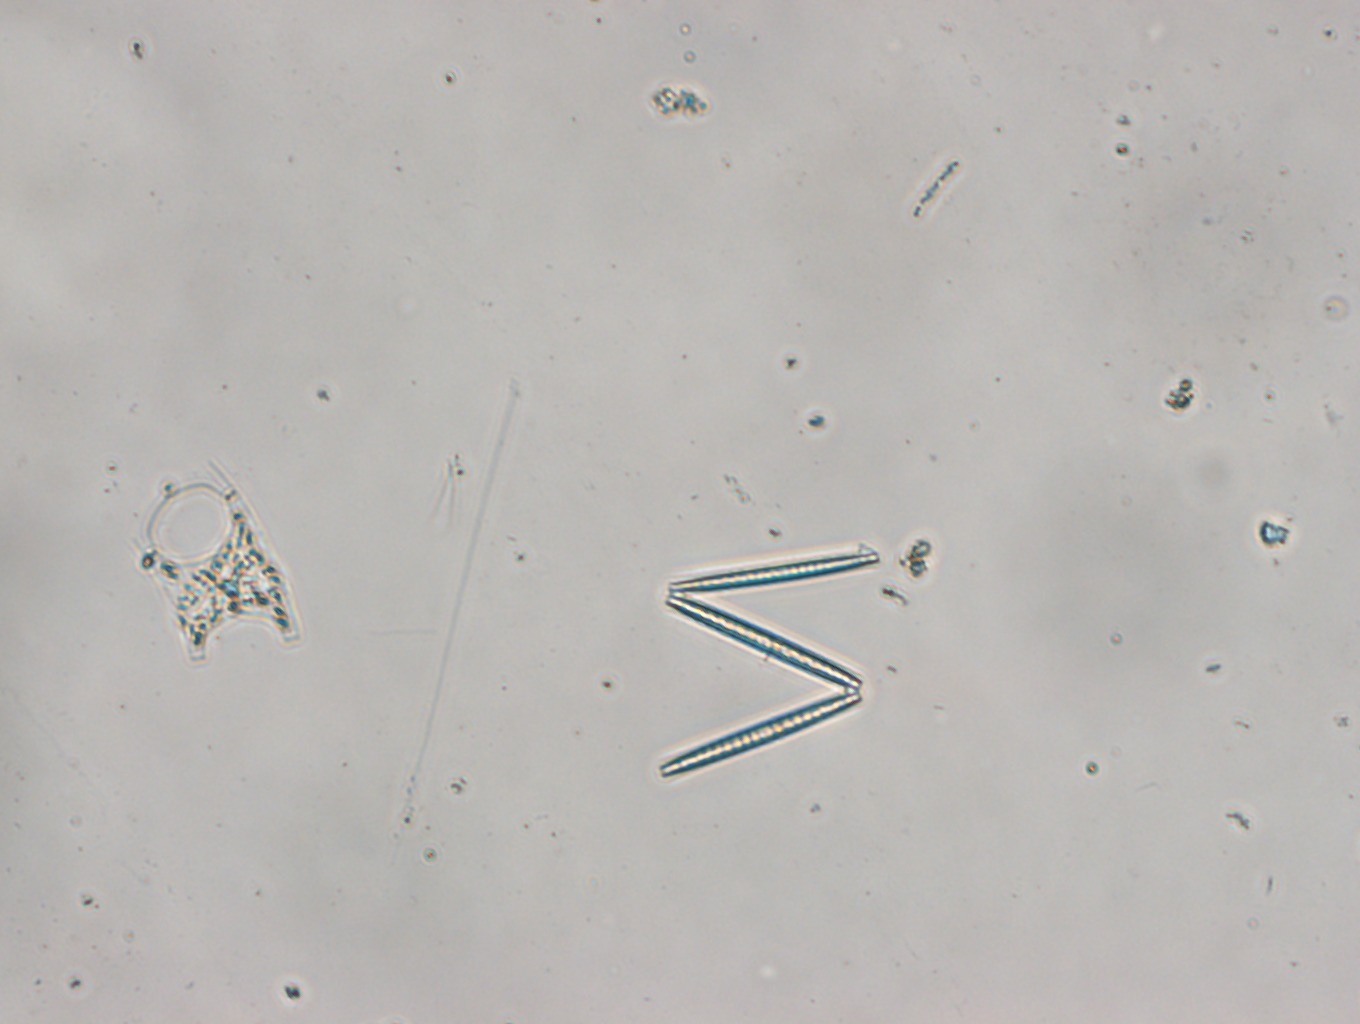thalassionema nitzschioides: (650, 538, 886, 783)
